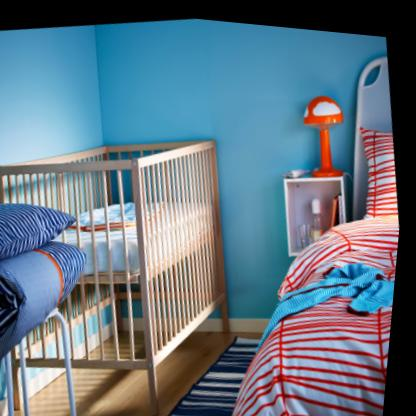Bed: (179, 31, 415, 416)
